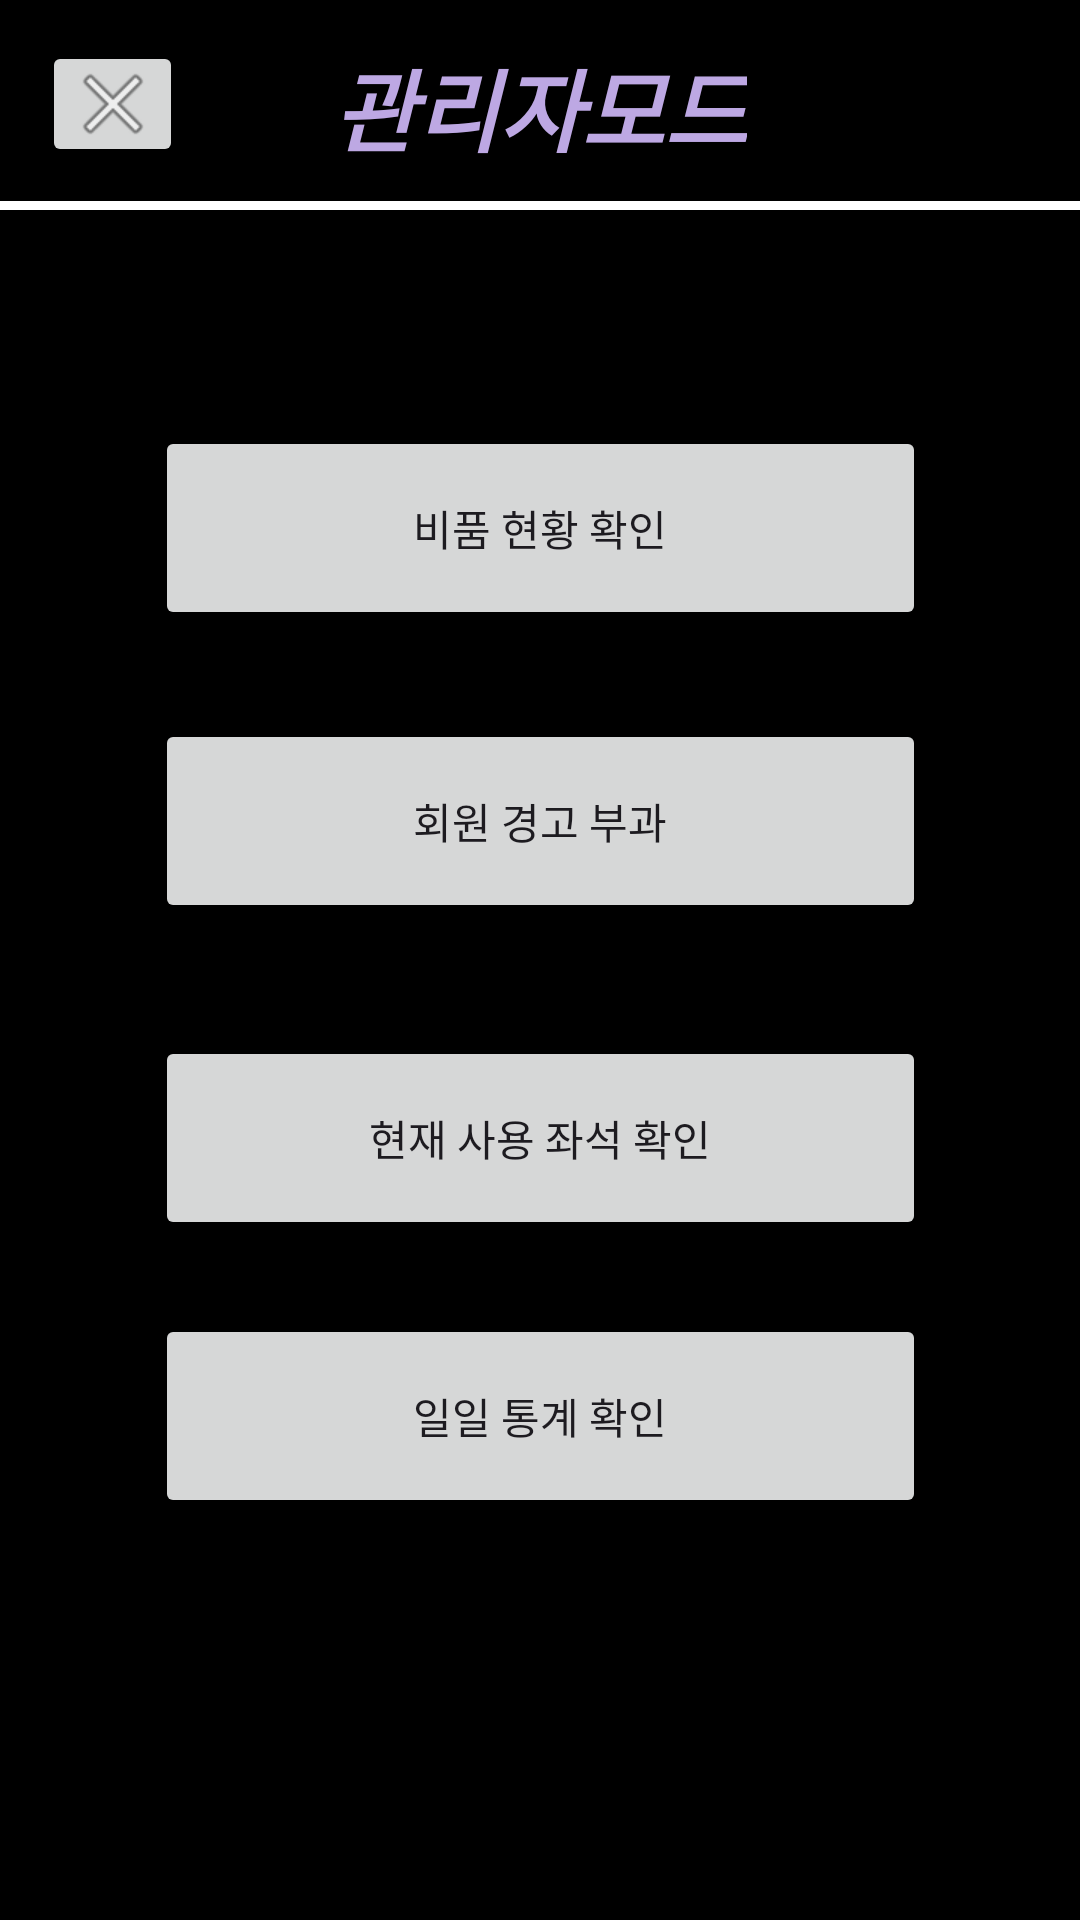

Screen size 1080w x 1920h. Icon name, then its box in pixels as (x1, y1, x2, y2):
close clear cancel: (54, 59, 171, 149)
